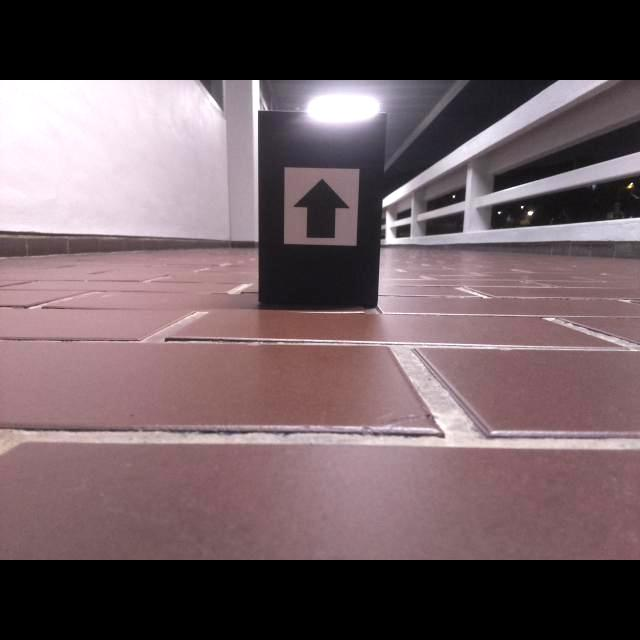UP: (291, 178, 351, 239)
